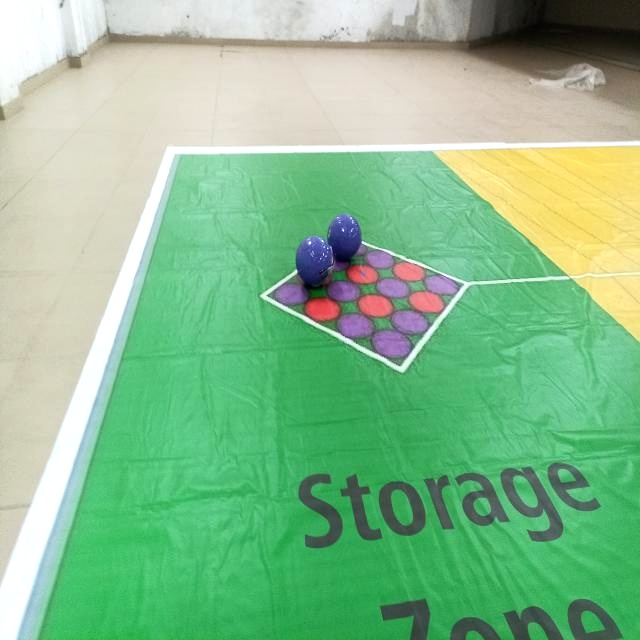purple_ball: (297, 233, 332, 287), (327, 213, 362, 264)
